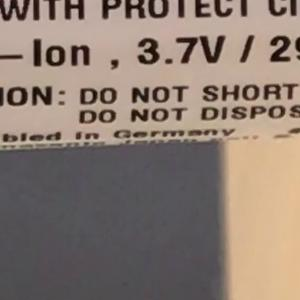keyword: (127, 25, 233, 75)
